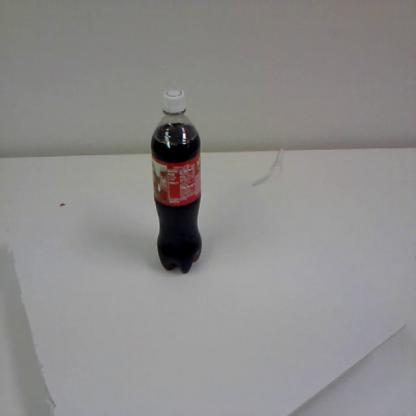bottle: (148, 86, 204, 279)
